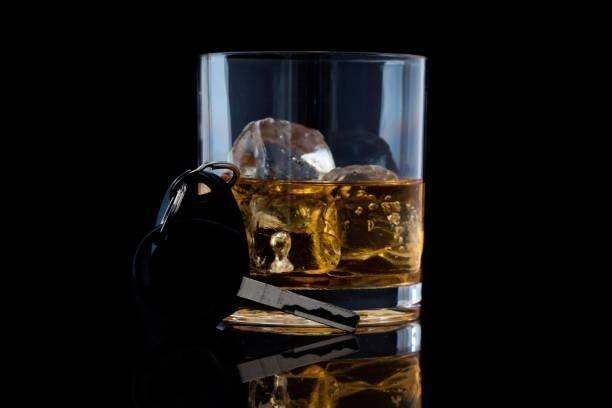glass-normal: (183, 46, 431, 335)
